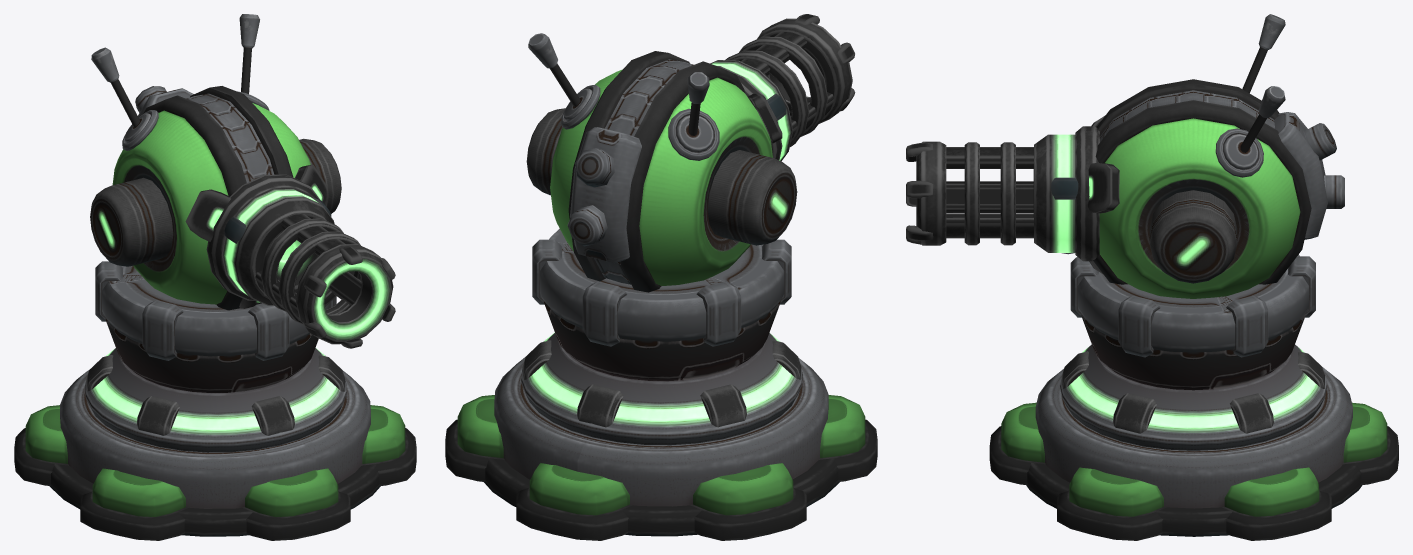
The model's file is Laser_Green_2.gltf.
3 views of the same model, side by side, from view 1: azimuth 30°, elevation 25°; view 2: azimuth 150°, elevation 25°; view 3: azimuth 270°, elevation 25° (orthographic). The views are drawn at different scales.
Visible parts, largest first — view 1: l3_base, l3_main, l3_mid, l3_barrel, l3_connector; view 2: l3_main, l3_base, l3_mid, l3_connector, l3_barrel; view 3: l3_main, l3_base, l3_mid, l3_barrel, l3_connector.
Part boxes in pixels (box(x1,y1,x2,y2)): l3_base: box(14, 370, 416, 540); l3_main: box(90, 14, 341, 310); l3_mid: box(85, 319, 346, 452); l3_barrel: box(185, 164, 395, 348); l3_connector: box(95, 261, 336, 360); l3_main: box(526, 33, 797, 292); l3_base: box(445, 357, 877, 540); l3_mid: box(521, 301, 802, 445); l3_connector: box(532, 228, 791, 346); l3_barrel: box(710, 14, 855, 161); l3_main: box(1093, 14, 1344, 298); l3_base: box(989, 367, 1398, 540); l3_mid: box(1060, 314, 1326, 450); l3_barrel: box(906, 115, 1119, 274); l3_connector: box(1070, 254, 1315, 357).
Size of the model in its own units: 0.5975 by 0.706 by 0.7682.
Materials: 1 (1 with a texture image).
